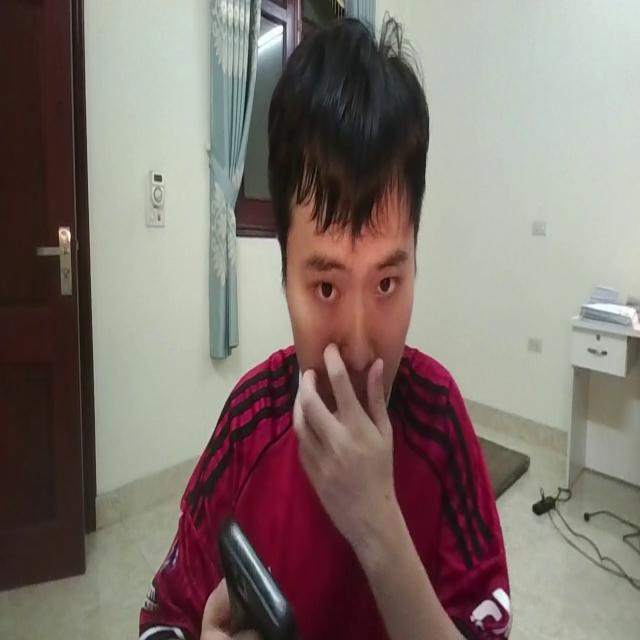phone: (214, 506, 298, 640)
student: (139, 17, 513, 640)
